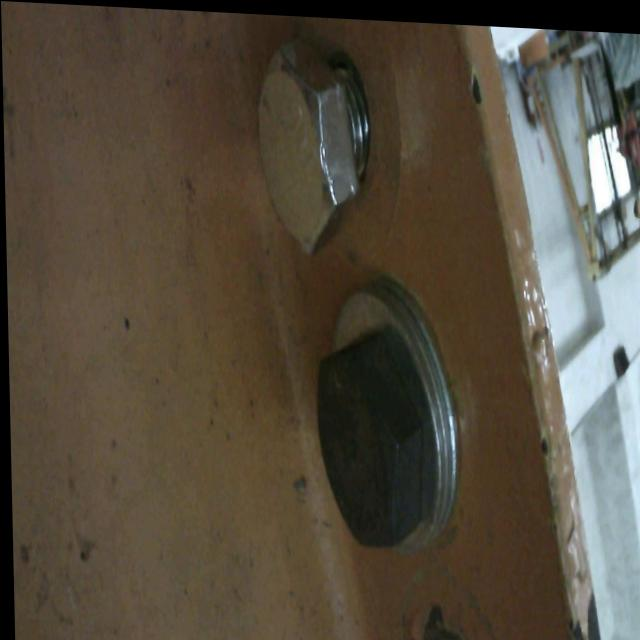Loose bolt: (255, 40, 374, 254)
Missing bolt: (408, 605, 508, 640)
Rusty bolt: (312, 285, 457, 551), (323, 292, 438, 549)
